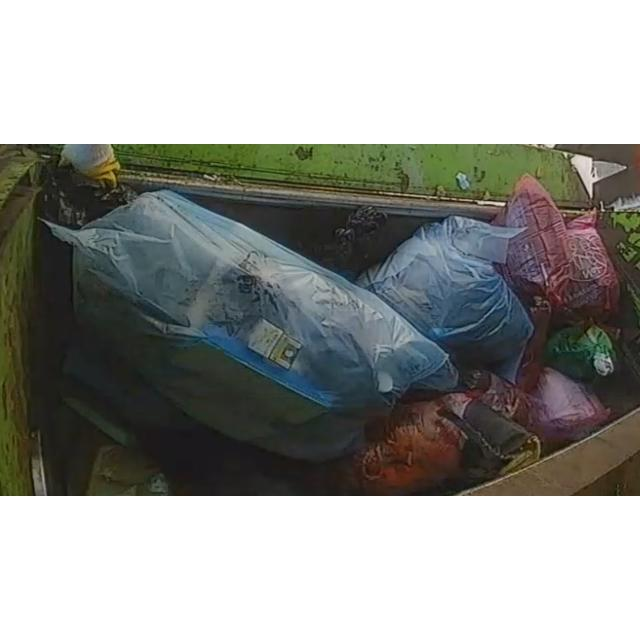other_trashbag: (45, 190, 458, 461), (356, 216, 532, 381), (359, 394, 540, 495), (492, 174, 570, 305), (525, 368, 610, 443), (566, 210, 619, 313)
